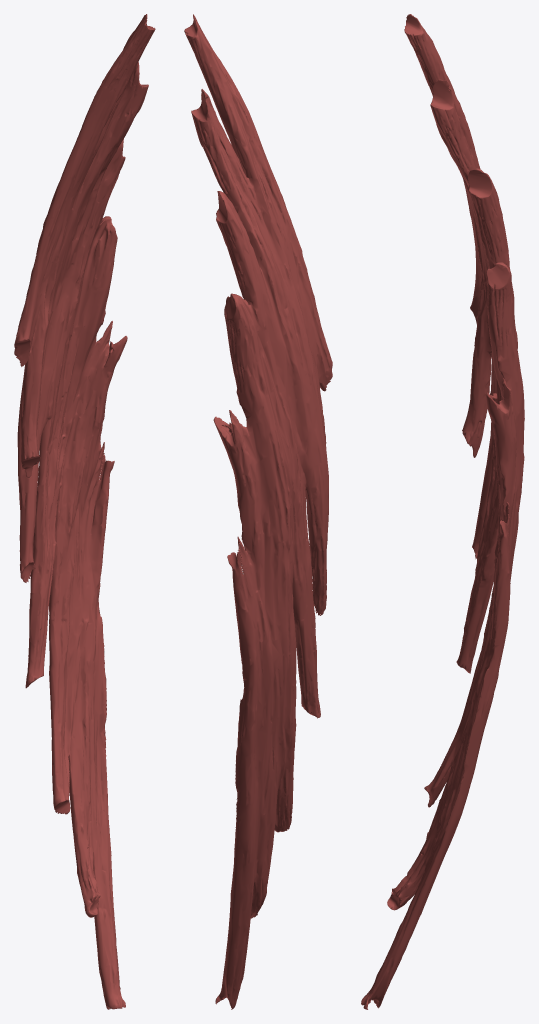
Rendered from FMA22872.glb.
3 renders of one model, left to right at view 1: azimuth 30°, elevation 25°; view 2: azimuth 210°, elevation 25°; view 3: azimuth 270°, elevation 25°, orthographic. The views are drawn at different scales.
Visible parts, largest first — view 1: FMA22872; view 2: FMA22872; view 3: FMA22872.
Boxes of the visible parts, x1=… form: FMA22872: x1=14, y1=14, x2=155, y2=1009; FMA22872: x1=184, y1=14, x2=332, y2=1009; FMA22872: x1=361, y1=14, x2=524, y2=1009.
Size of the model in its own units: 0.0343 by 0.2725 by 0.0396.
